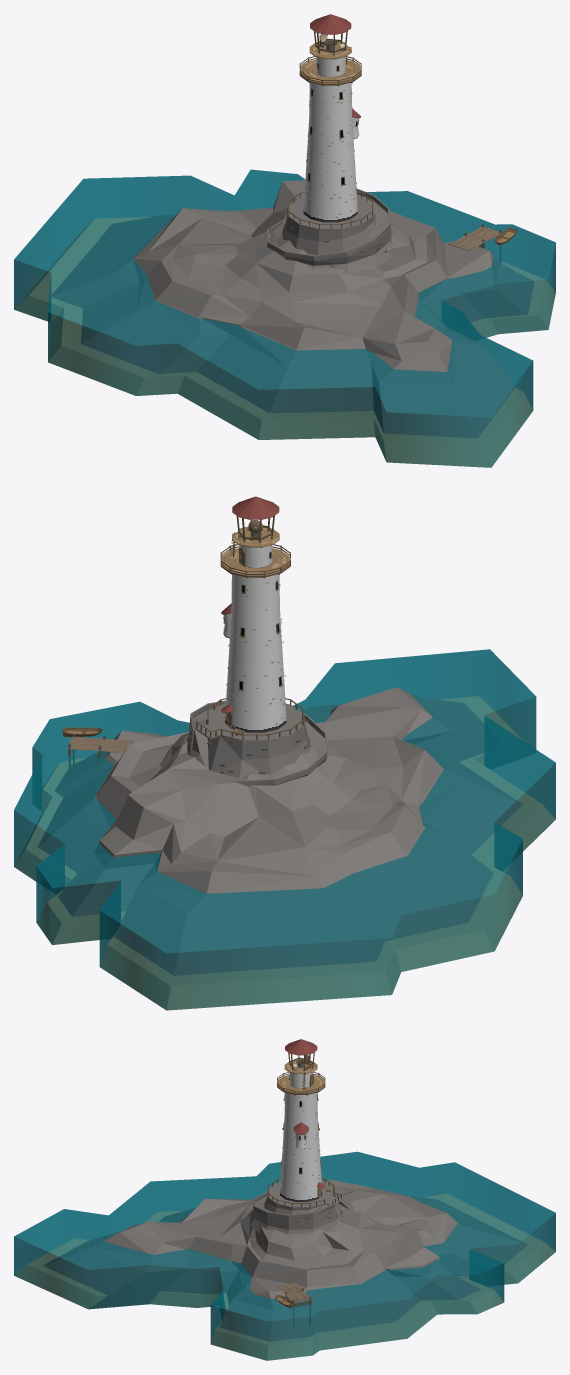
Rendered from TwP_LightHouse.fbx.
3 renders of one model, top to bottom at view 1: azimuth 30°, elevation 25°; view 2: azimuth 150°, elevation 25°; view 3: azimuth 270°, elevation 25°, orthographic. The views are drawn at different scales.
Parts seen in each view (by area): view 1: Object148, MultiMesher012, Object147, TwP_bld_Lighthouse, TwP_bld_Lighthouse_base, Object010; view 2: Object148, MultiMesher012, Object147, TwP_bld_Lighthouse, TwP_bld_Lighthouse_base, Object010; view 3: Object148, MultiMesher012, Object147, TwP_bld_Lighthouse, TwP_bld_Lighthouse_base, Object010.
Boxes of the visible parts, left/top/right/bottom form: Object148: left=14, top=169, right=555, bottom=467; MultiMesher012: left=51, top=180, right=534, bottom=437; Object147: left=14, top=217, right=555, bottom=467; TwP_bld_Lighthouse: left=299, top=14, right=361, bottom=222; TwP_bld_Lighthouse_base: left=266, top=188, right=392, bottom=273; Object010: left=300, top=59, right=361, bottom=86; Object148: left=14, top=649, right=555, bottom=1010; MultiMesher012: left=38, top=687, right=522, bottom=975; Object147: left=14, top=696, right=555, bottom=1010; TwP_bld_Lighthouse: left=220, top=496, right=290, bottom=732; TwP_bld_Lighthouse_base: left=187, top=698, right=327, bottom=786; Object010: left=220, top=548, right=290, bottom=578; Object148: left=14, top=1151, right=555, bottom=1360; MultiMesher012: left=43, top=1179, right=527, bottom=1341; Object147: left=14, top=1184, right=555, bottom=1360; TwP_bld_Lighthouse: left=277, top=1039, right=325, bottom=1201; TwP_bld_Lighthouse_base: left=249, top=1178, right=351, bottom=1234; Object010: left=277, top=1075, right=324, bottom=1095.
Bounding box in the file's own units: 72.72 × 48.57 × 96.97.
Materials: 3 (2 with a texture image).
